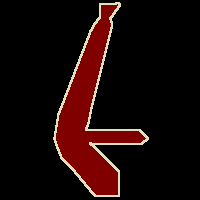tie: (54, 2, 148, 196)
